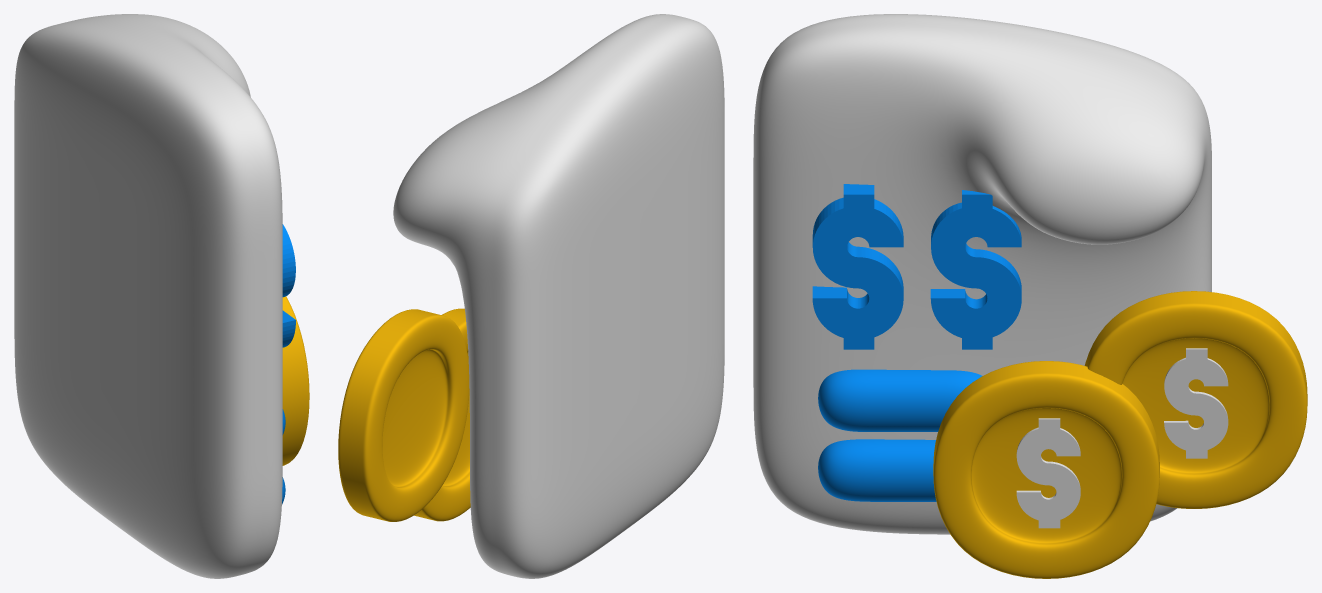
The model's file is bill-6507819-1.fbx.
The picture shows the model from 3 angles, left to right: view 1: azimuth 30°, elevation 25°; view 2: azimuth 150°, elevation 25°; view 3: azimuth 270°, elevation 25°; orthographic projection. The views are drawn at different scales.
Parts seen in each view (by area): view 1: Cube.006, Cube.002, Text.001; view 2: Cube.006, Cube.008, Cube.002; view 3: Cube.006, Cube.002, Cube.008, Text.001, Text.002, Cube, Cube.001, Text.003, Text.006.
Part boxes in pixels (x1,y1,x2,y2): Cube.006: (14,14,282,578); Cube.002: (282,296,309,465); Text.001: (282,224,295,347); Cube.006: (393,14,724,578); Cube.008: (338,309,469,521); Cube.002: (414,308,470,521); Cube.006: (753,14,1211,534); Cube.002: (933,361,1159,578); Cube.008: (1084,291,1307,508); Text.001: (812,184,903,349); Text.002: (930,190,1021,349); Cube: (818,369,982,431); Cube.001: (818,439,936,501); Text.003: (1016,418,1080,528); Text.006: (1164,348,1228,458).
Size of the model in its own units: 264 by 669 by 666.
